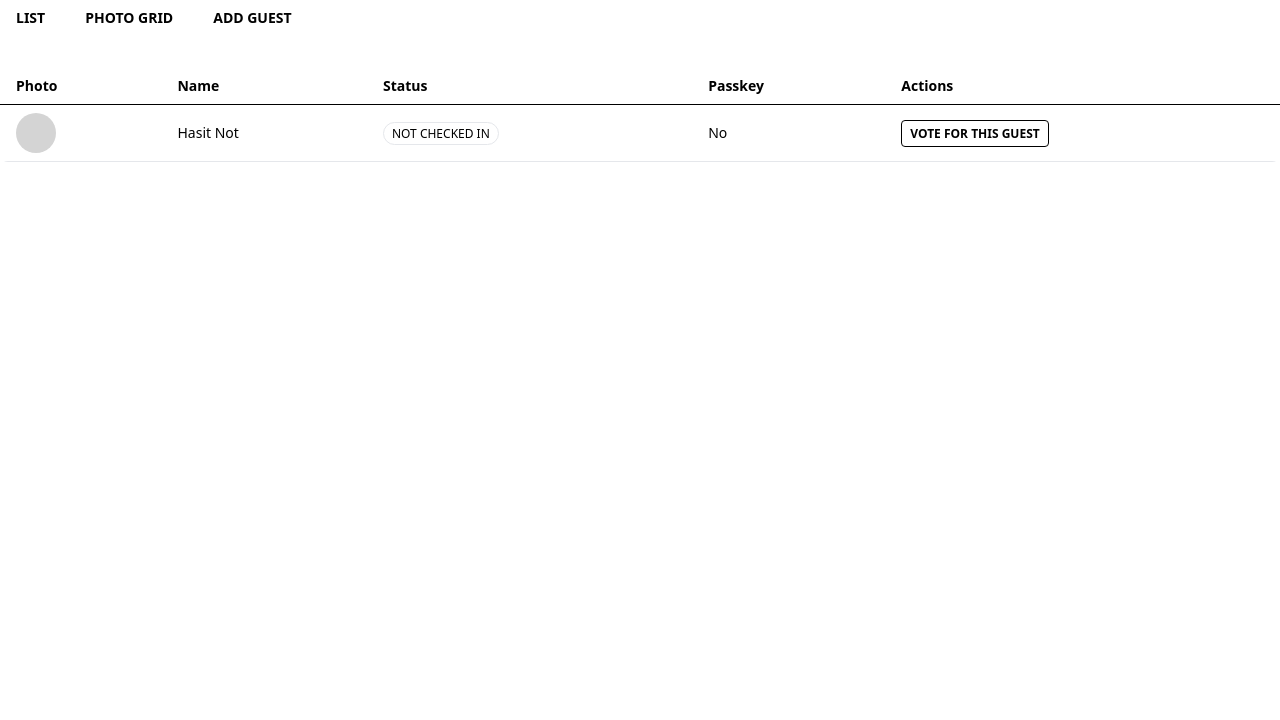
Has passkey indicator › shows no Remove Passkey button in the edit modal for a guest with none
Click the text "Hasit Not". click: (194, 132)
box: [162, 104, 367, 162]
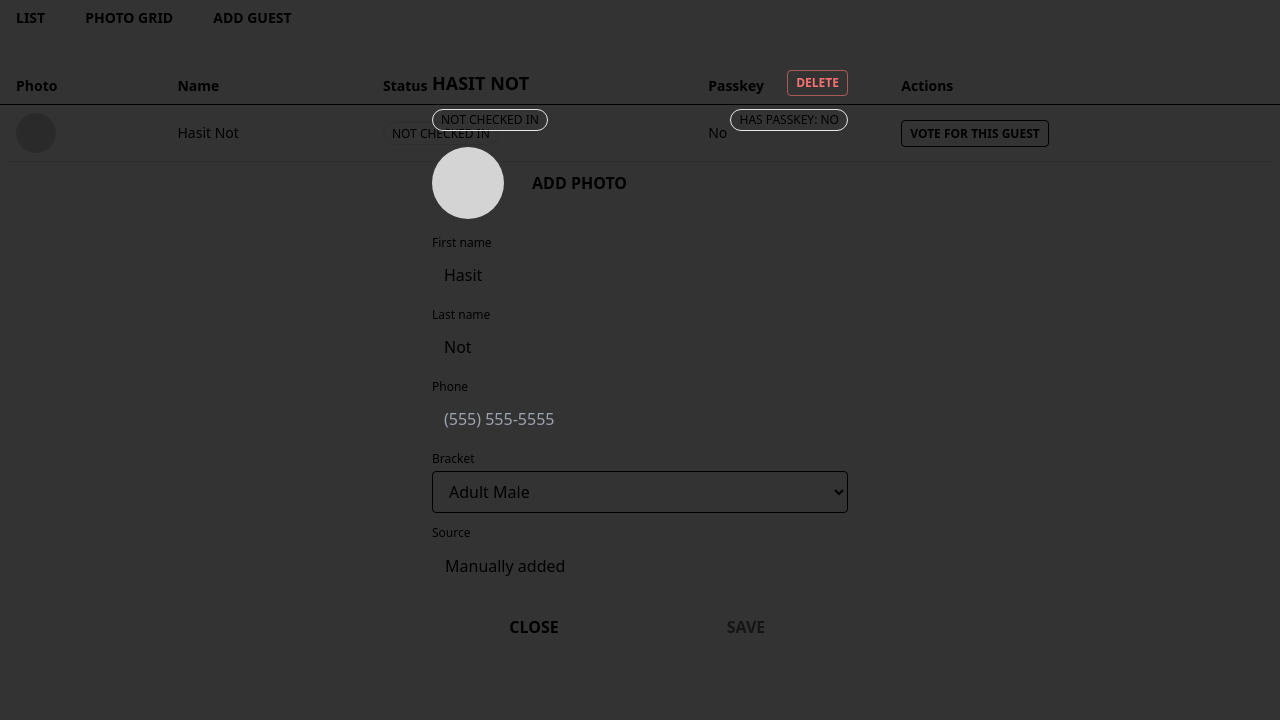
Now the text "Has passkey: No" is shown, box [730, 109, 848, 131]
